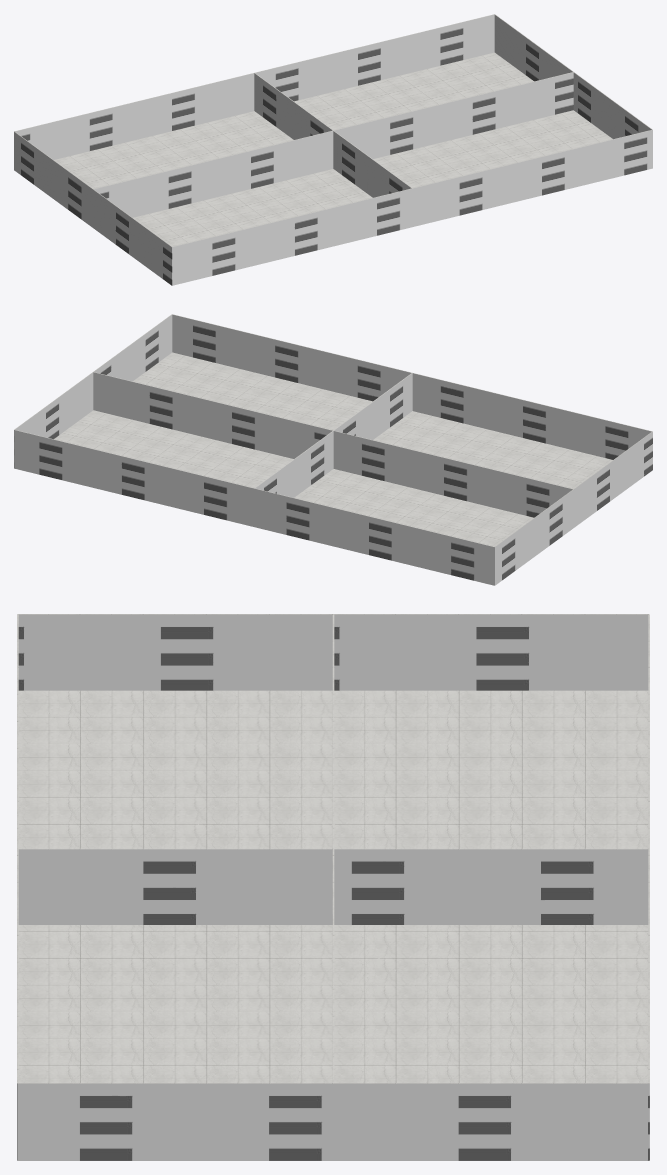
File: NoLod_0.glb
3 views of the same model, one above another, from view 1: azimuth 30°, elevation 25°; view 2: azimuth 150°, elevation 25°; view 3: azimuth 270°, elevation 25° (orthographic). The views are drawn at different scales.
Parts seen in each view (by area): view 1: rtc; view 2: rtc; view 3: rtc.
Boxes of the visible parts, x1,y1,x2,y2 form: rtc: [14, 14, 652, 285]; rtc: [14, 314, 652, 585]; rtc: [17, 614, 649, 1160].
Size of the model in its own units: 144 by 11 by 81.73.
Materials: 2 (2 with a texture image).
